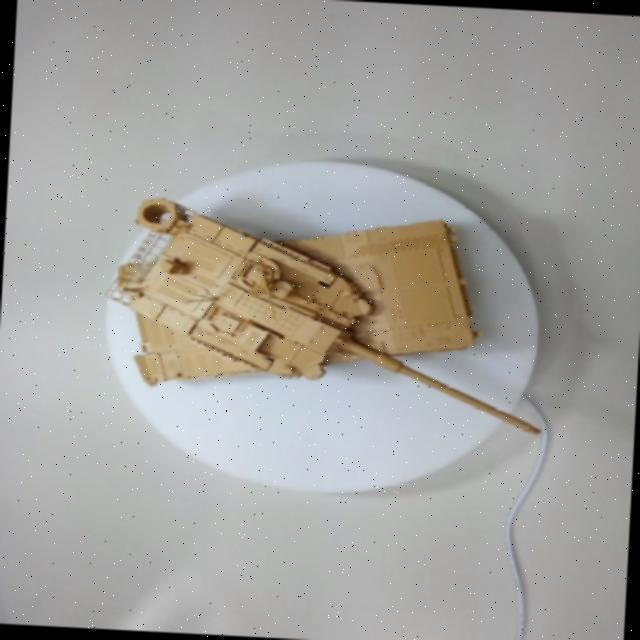korea tank: (82, 139, 546, 531)
